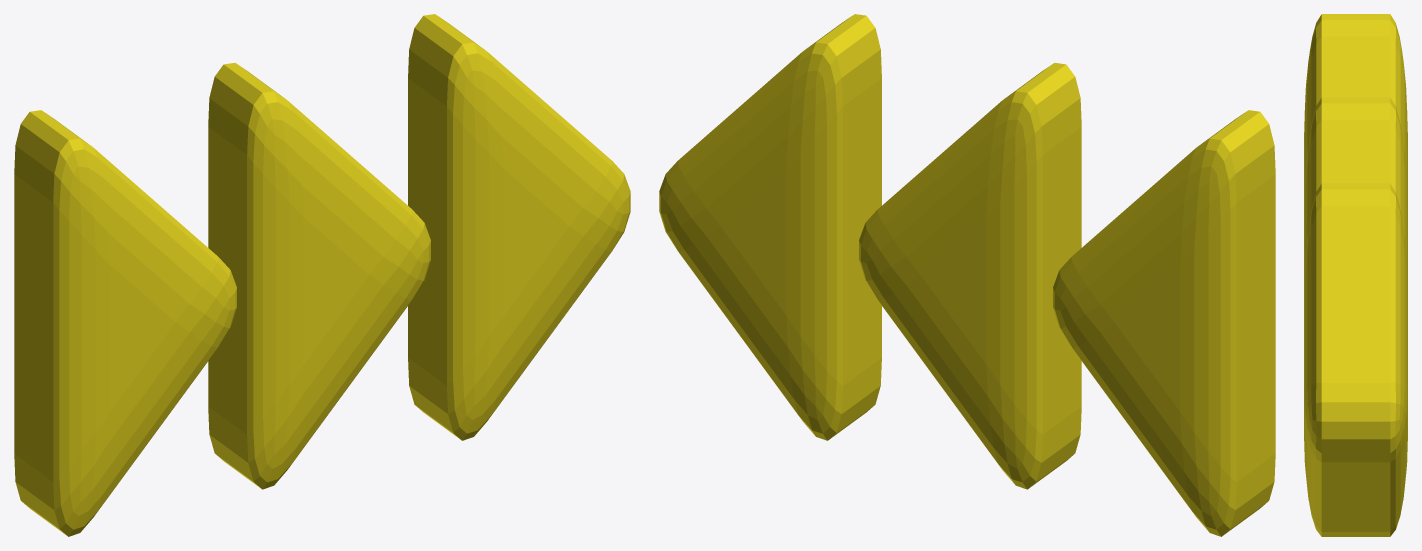
The model's file is ItemSpeed.fbx.
3 views of the same model, side by side, from view 1: azimuth 30°, elevation 25°; view 2: azimuth 150°, elevation 25°; view 3: azimuth 270°, elevation 25° (orthographic). The views are drawn at different scales.
Visible parts, largest first — view 1: Cylinder, Cylinder.002, Cylinder.001; view 2: Cylinder, Cylinder.002, Cylinder.001; view 3: Cylinder.002, Cylinder.001, Cylinder.
Boxes of the visible parts, box(x1,y1,x2,y2) form: Cylinder: box(14, 110, 236, 536); Cylinder.002: box(408, 14, 630, 440); Cylinder.001: box(208, 63, 430, 489); Cylinder: box(1053, 110, 1275, 536); Cylinder.002: box(659, 14, 881, 440); Cylinder.001: box(859, 63, 1081, 489); Cylinder.002: box(1304, 183, 1407, 536); Cylinder.001: box(1304, 97, 1407, 301); Cylinder: box(1304, 14, 1407, 215).
Bounding box in the file's own units: 421 × 276 × 74.5.
